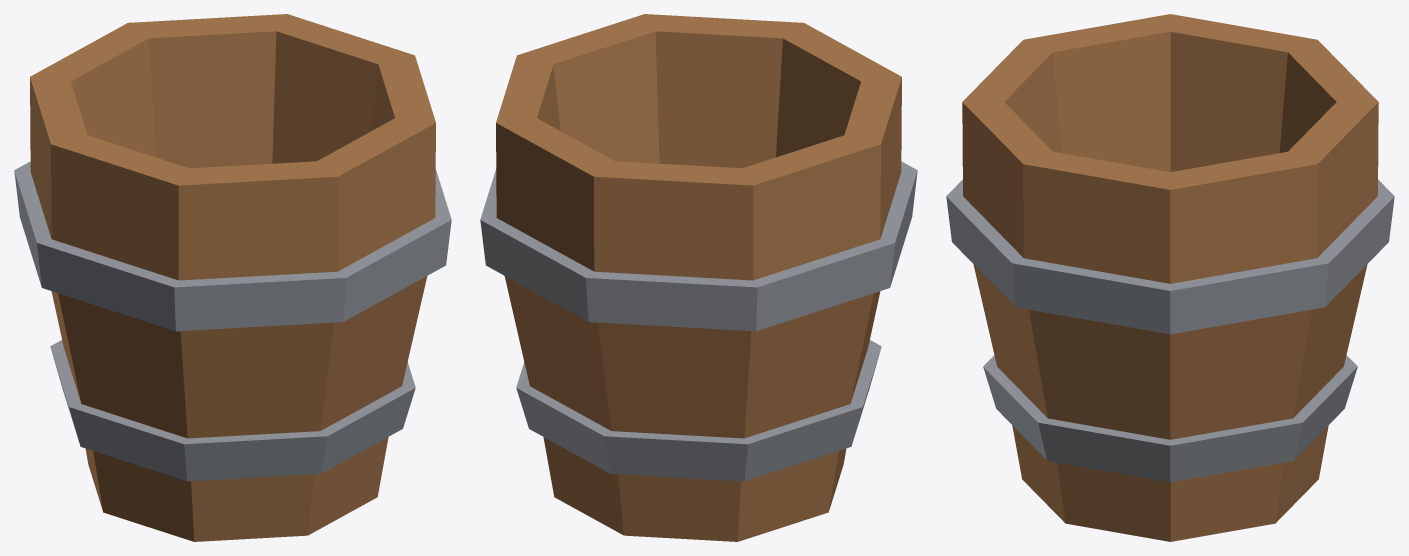
Rendered from Kova.fbx.
3 views of the same model, side by side, from view 1: azimuth 30°, elevation 25°; view 2: azimuth 150°, elevation 25°; view 3: azimuth 270°, elevation 25° (orthographic).
Parts seen in each view (by area): view 1: Kova; view 2: Kova; view 3: Kova.
Part boxes in pixels (x1,y1,x2,y2): Kova: (14,14,451,541); Kova: (480,14,917,541); Kova: (946,14,1394,541).
Size of the model in its own units: 215 by 200 by 215.
